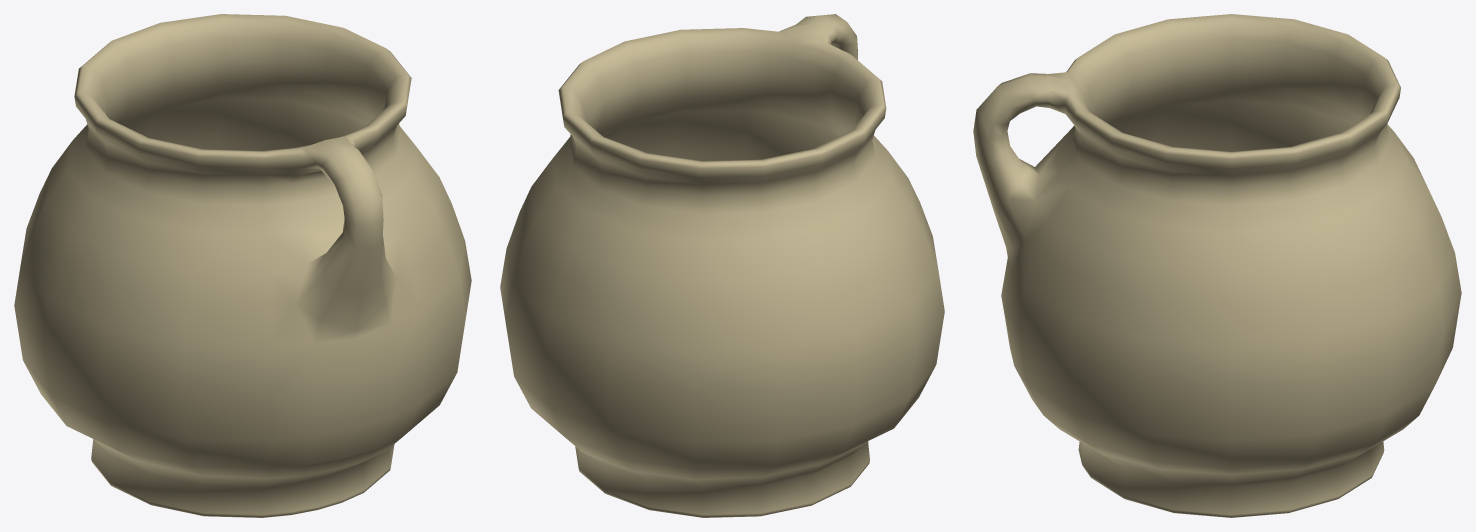
File: Health pot.fbx
3 views of the same model, side by side, from view 1: azimuth 30°, elevation 25°; view 2: azimuth 150°, elevation 25°; view 3: azimuth 270°, elevation 25° (orthographic). The views are drawn at different scales.
Visible parts, largest first — view 1: Health_Pot; view 2: Health_Pot; view 3: Health_Pot.
Boxes of the visible parts, left/top/right/bottom form: Health_Pot: left=14, top=14, right=471, bottom=517; Health_Pot: left=500, top=14, right=944, bottom=517; Health_Pot: left=973, top=14, right=1461, bottom=517.
Size of the model in its own units: 0.7716 by 0.7027 by 0.8185.
